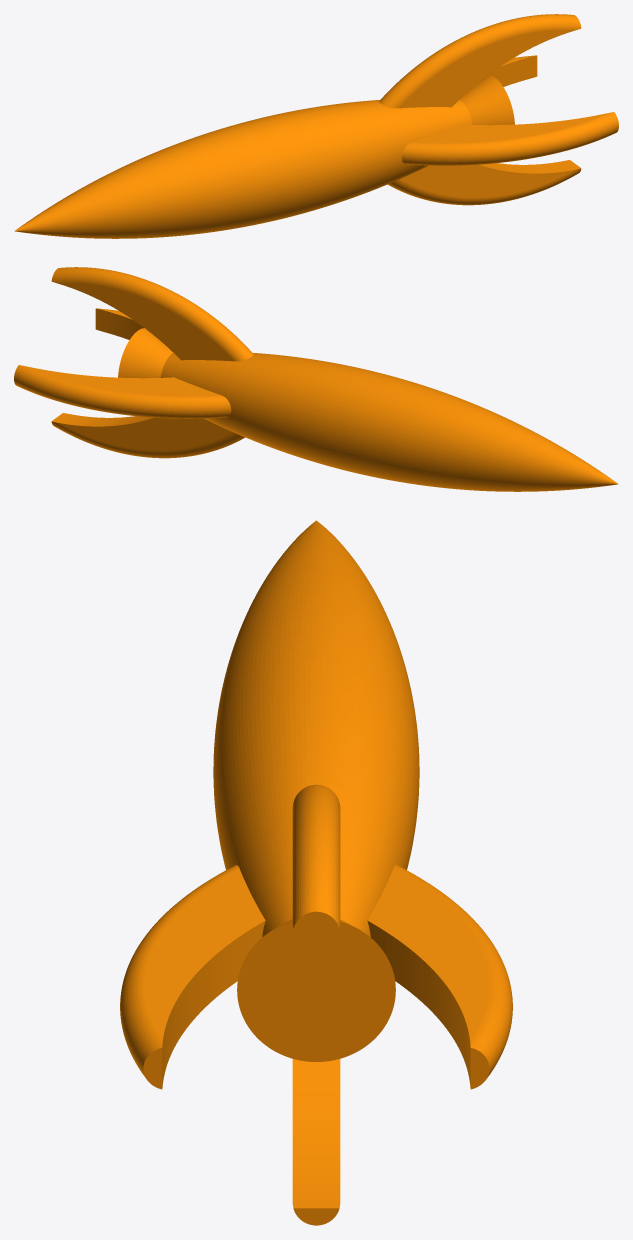
File: rocket2.fbx
3 views of the same model, one above another, from view 1: azimuth 30°, elevation 25°; view 2: azimuth 150°, elevation 25°; view 3: azimuth 270°, elevation 25° (orthographic). The views are drawn at different scales.
Parts seen in each view (by area): view 1: Rocket Toy; view 2: Rocket Toy; view 3: Rocket Toy.
Boxes of the visible parts, x1,y1,x2,y2 form: Rocket Toy: [14, 14, 618, 238]; Rocket Toy: [14, 267, 618, 491]; Rocket Toy: [120, 520, 512, 1225].
Size of the model in its own units: 8170 by 2473 by 2473.
1 material, 1 textured.
